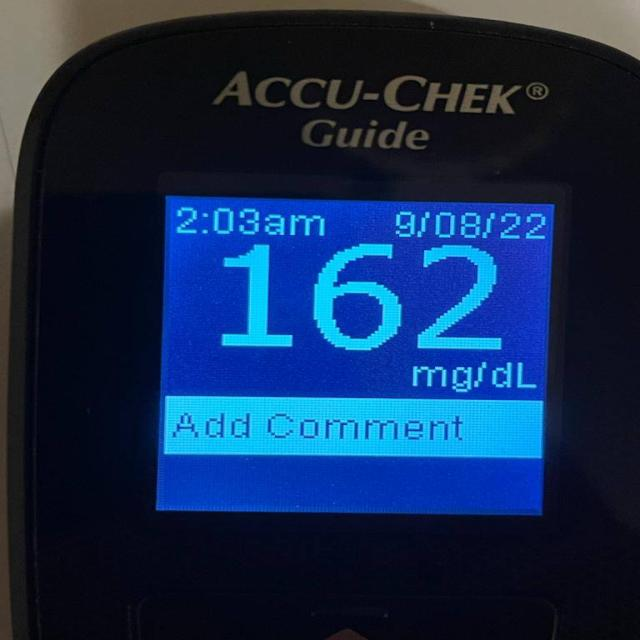gluco: (0, 11, 639, 639)
